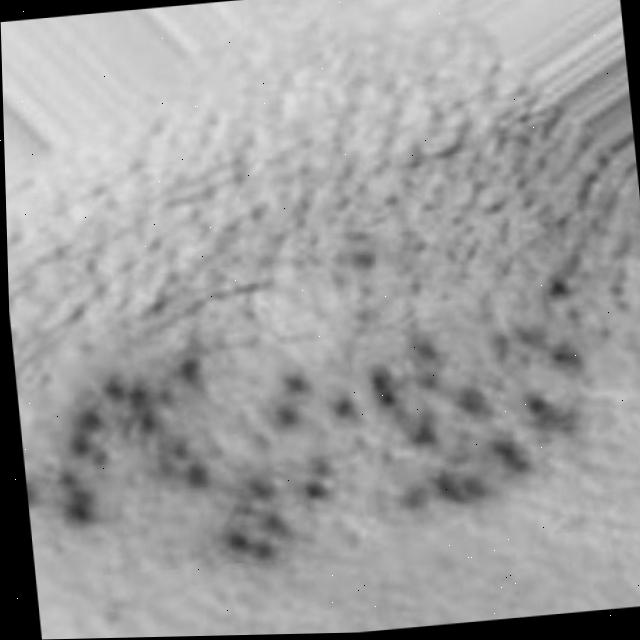Shingles: (21, 323, 588, 571)
